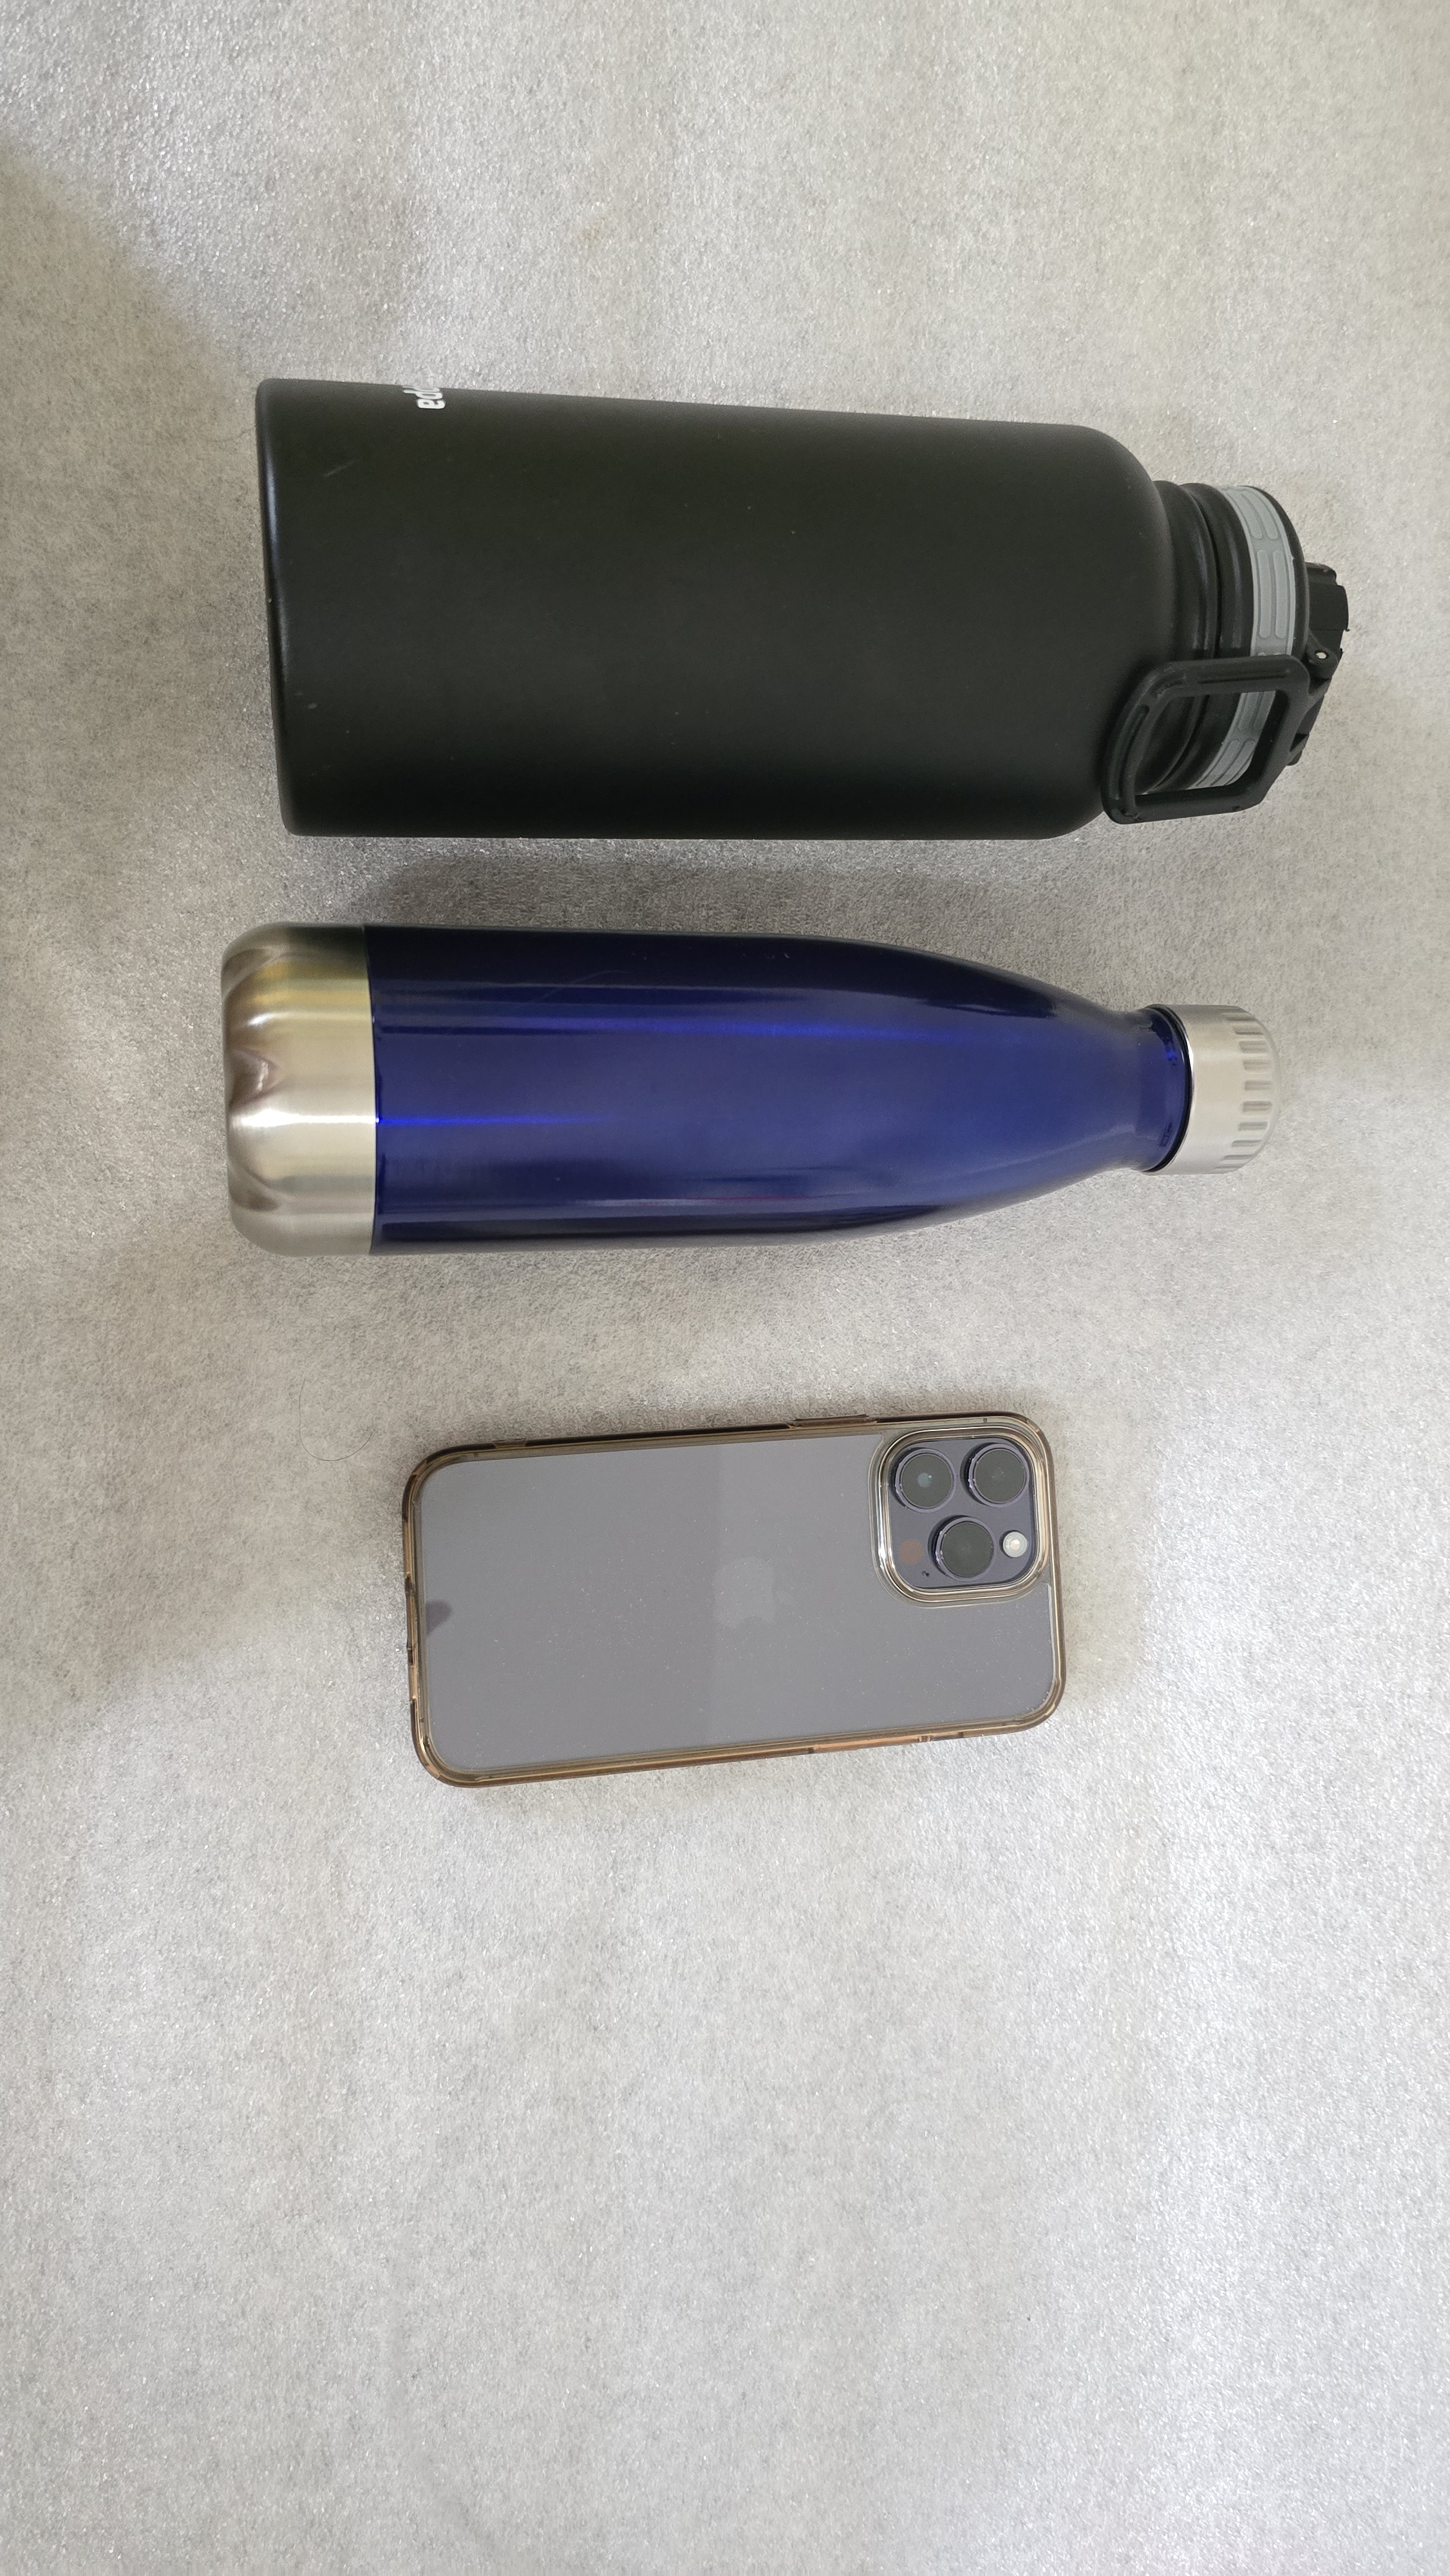bottle: (196, 349, 1402, 878), (196, 895, 1337, 1272)
